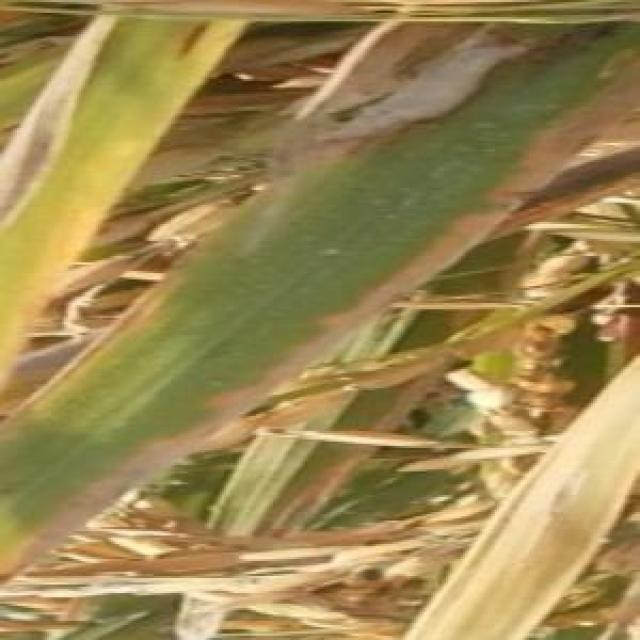Bacterial_Blight: (0, 50, 640, 585), (401, 343, 640, 640), (0, 0, 131, 226)
Rice_Blast: (325, 20, 550, 142)
